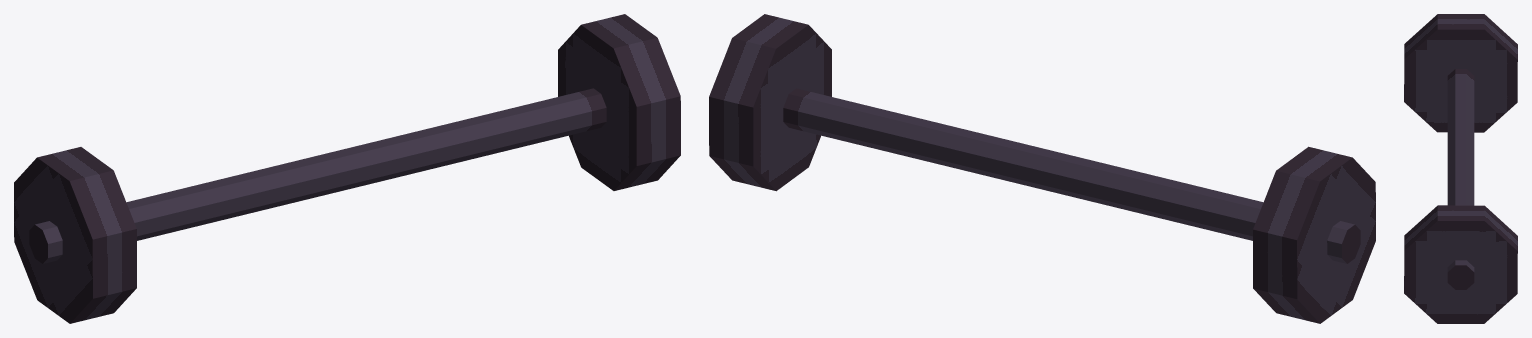
Rendered from SM_barBell.001.fbx.
The picture shows the model from 3 angles, left to right: view 1: azimuth 30°, elevation 25°; view 2: azimuth 150°, elevation 25°; view 3: azimuth 270°, elevation 25°; orthographic projection. The views are drawn at different scales.
Parts seen in each view (by area): view 1: barBell.001; view 2: barBell.001; view 3: barBell.001.
Part boxes in pixels (bbox=[...]): barBell.001: bbox=[14, 14, 680, 323]; barBell.001: bbox=[709, 14, 1375, 323]; barBell.001: bbox=[1404, 14, 1517, 323].
Bounding box in the file's own units: 42 × 9.29 × 9.29.
